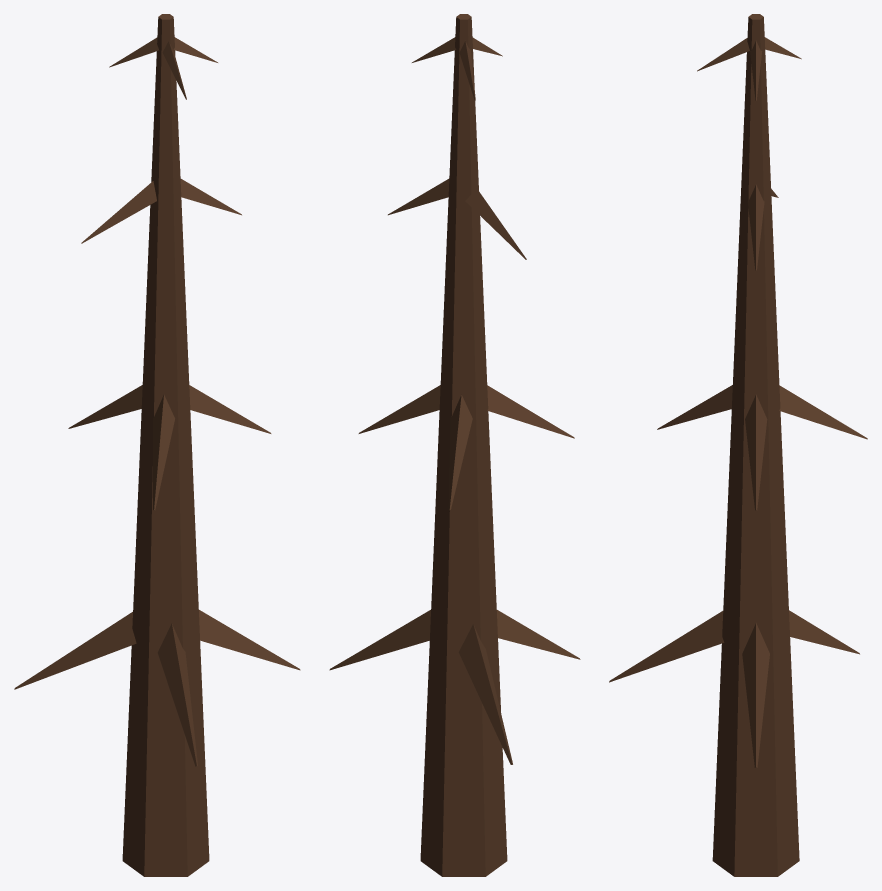
Rendered from SPW_Natures_Tree_Dead_03.glb.
The picture shows the model from 3 angles, left to right: view 1: azimuth 30°, elevation 25°; view 2: azimuth 150°, elevation 25°; view 3: azimuth 270°, elevation 25°; orthographic projection.
Visible parts, largest first — view 1: SPW_Natures_Tree_Dead_03; view 2: SPW_Natures_Tree_Dead_03; view 3: SPW_Natures_Tree_Dead_03.
Boxes of the visible parts, x1=… form: SPW_Natures_Tree_Dead_03: x1=14, y1=14, x2=300, y2=876; SPW_Natures_Tree_Dead_03: x1=329, y1=14, x2=580, y2=876; SPW_Natures_Tree_Dead_03: x1=609, y1=14, x2=867, y2=876.
Size of the model in its own units: 1.05 by 3.6 by 1.
1 material, 1 textured.
